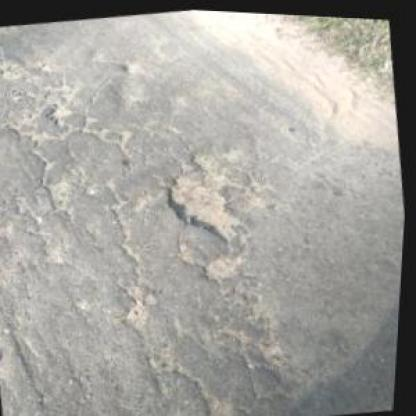pothole: (161, 164, 251, 247), (202, 248, 247, 282)
